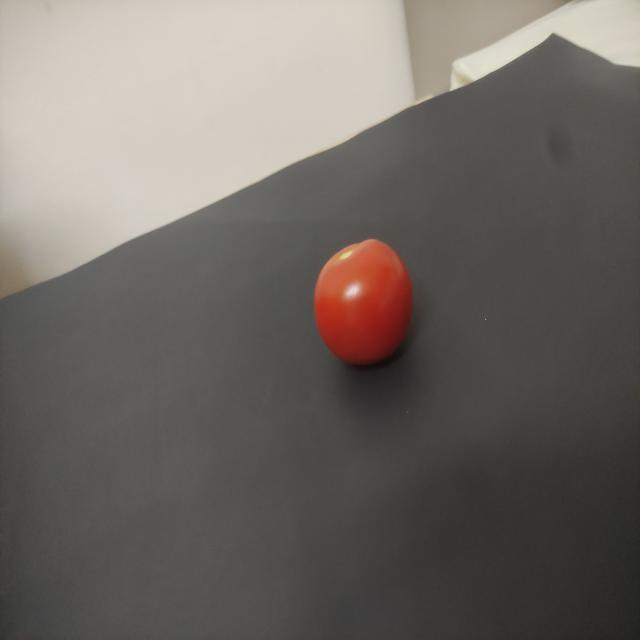kirmizi: (296, 221, 426, 378)
